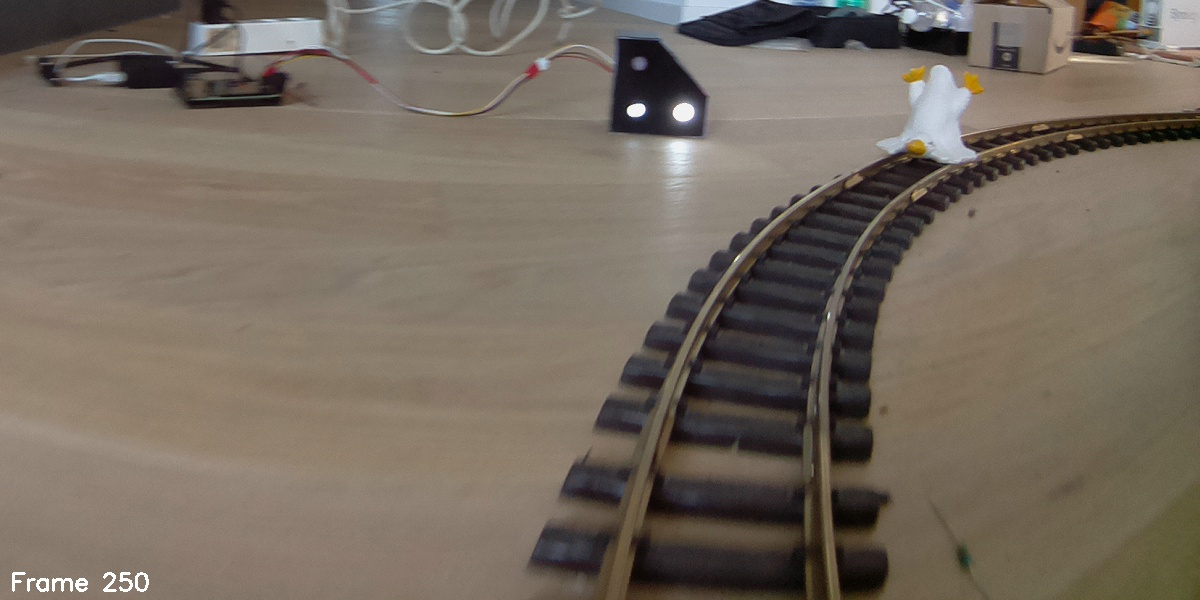Halt: (612, 35, 707, 140)
